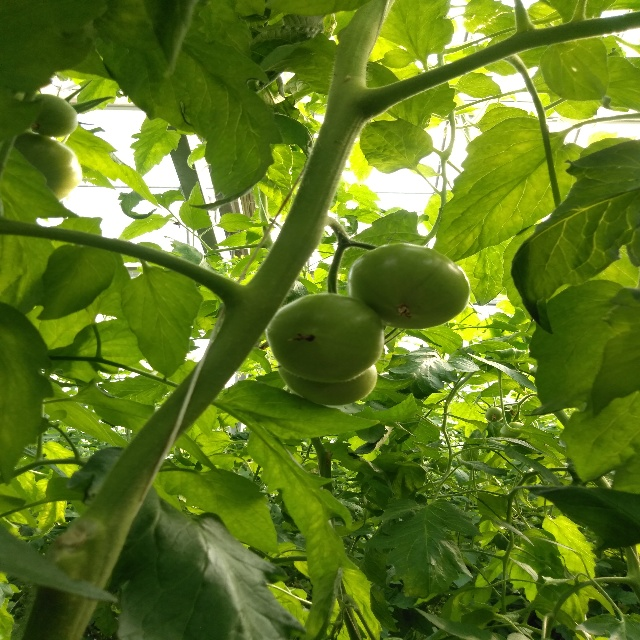b_green: (265, 293, 385, 383), (347, 242, 471, 329), (13, 132, 83, 201), (278, 363, 378, 406), (31, 93, 78, 137), (500, 422, 523, 444), (484, 407, 503, 422)
